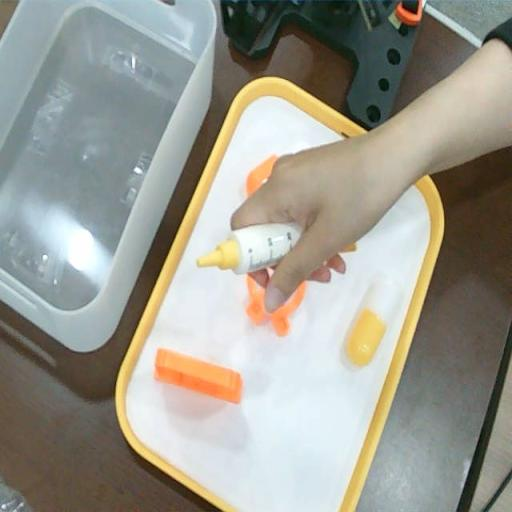hospital: (231, 131, 392, 301)
